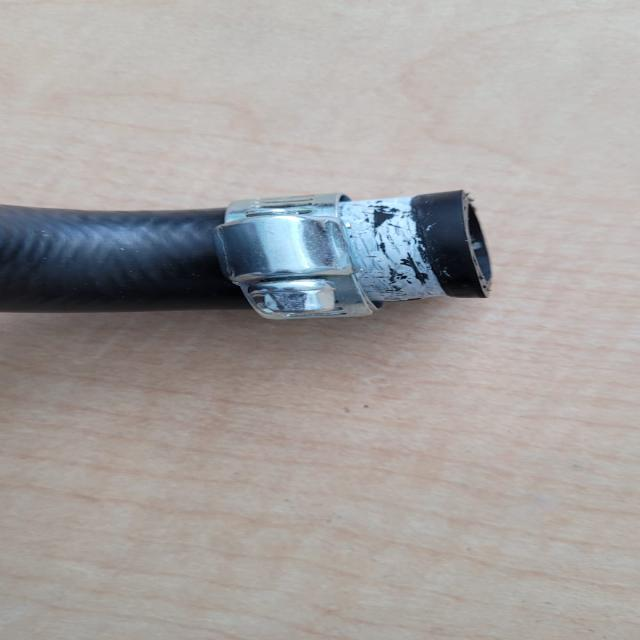clamp: (215, 192, 379, 325)
pipe: (345, 193, 493, 304)
